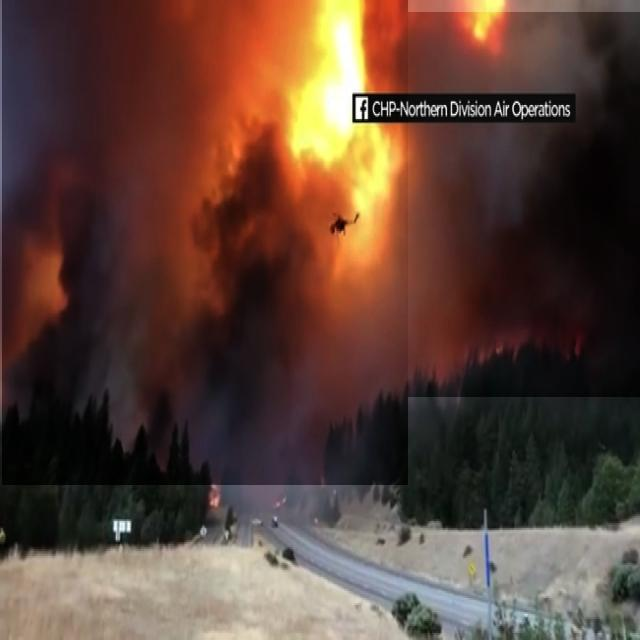Fire: (292, 15, 404, 240)
Smoke: (2, 0, 408, 485), (406, 12, 640, 397)
